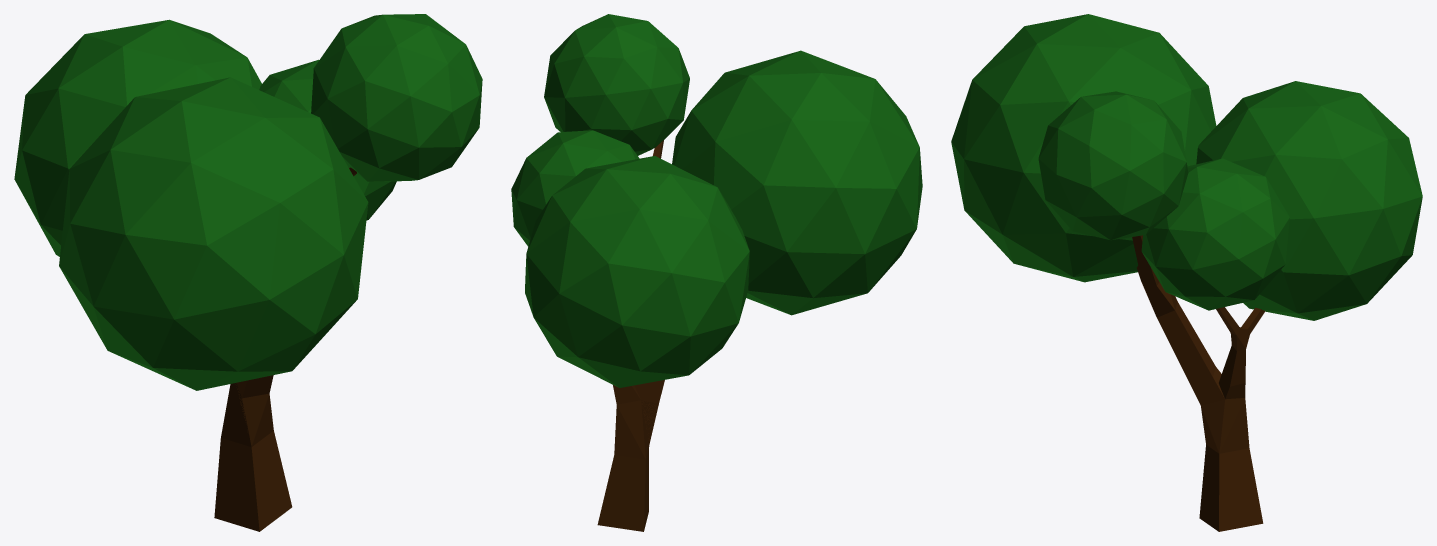
Rendered from Tree1.5.fbx.
3 renders of one model, left to right at view 1: azimuth 30°, elevation 25°; view 2: azimuth 150°, elevation 25°; view 3: azimuth 270°, elevation 25°, orthographic. The views are drawn at different scales.
Visible parts, largest first — view 1: Icosphere.014, Icosphere.011, Icosphere.012, Tree1.5, Icosphere.013; view 2: Icosphere.014, Icosphere.012, Icosphere.011, Tree1.5, Icosphere.013; view 3: Icosphere.014, Icosphere.012, Icosphere.011, Icosphere.013, Tree1.5.
Part boxes in pixels (x1=…): Icosphere.014: x1=59, y1=77, x2=368, y2=390; Icosphere.011: x1=311, y1=14, x2=482, y2=181; Icosphere.012: x1=14, y1=19, x2=261, y2=256; Tree1.5: x1=214, y1=167, x2=356, y2=531; Icosphere.013: x1=259, y1=59, x2=396, y2=220; Icosphere.014: x1=672, y1=50, x2=922, y2=315; Icosphere.012: x1=525, y1=156, x2=749, y2=387; Icosphere.011: x1=544, y1=14, x2=689, y2=155; Tree1.5: x1=597, y1=140, x2=664, y2=531; Icosphere.013: x1=511, y1=130, x2=639, y2=246; Icosphere.014: x1=951, y1=14, x2=1216, y2=282; Icosphere.012: x1=1196, y1=81, x2=1422, y2=320; Icosphere.011: x1=1038, y1=91, x2=1188, y2=240; Icosphere.013: x1=1141, y1=158, x2=1289, y2=310; Tree1.5: x1=1132, y1=235, x2=1265, y2=531.
Size of the model in its own units: 701 by 875 by 816.
